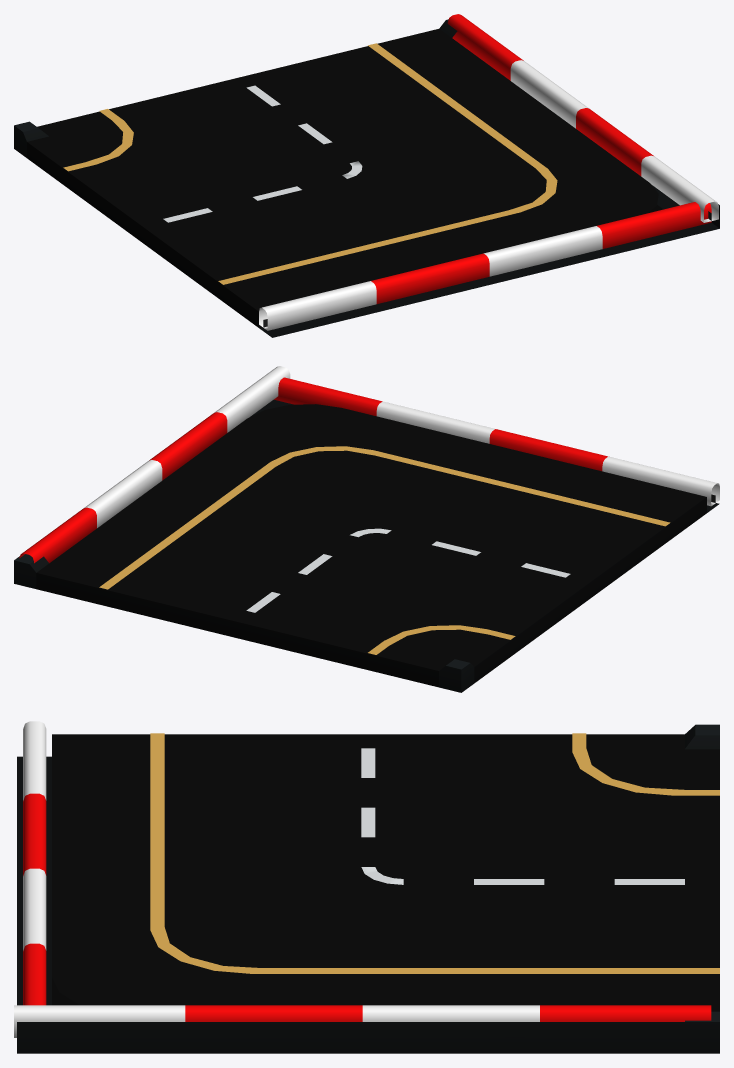
3 views of the same model, one above another, from view 1: azimuth 30°, elevation 25°; view 2: azimuth 150°, elevation 25°; view 3: azimuth 270°, elevation 25° (orthographic). The views are drawn at different scales.
Parts seen in each view (by area): view 1: road_corner_Cube.948_road_corner_Cube.948, StraightTrack01_Cube.002_StraightTrack01_Cube.001-Mesh.001, StraightTrack01_Cube.001_StraightTrack01_Cube.001-Mesh.002; view 2: road_corner_Cube.948_road_corner_Cube.948, StraightTrack01_Cube.002_StraightTrack01_Cube.001-Mesh.001, StraightTrack01_Cube.001_StraightTrack01_Cube.001-Mesh.002; view 3: road_corner_Cube.948_road_corner_Cube.948, StraightTrack01_Cube.001_StraightTrack01_Cube.001-Mesh.002, StraightTrack01_Cube.002_StraightTrack01_Cube.001-Mesh.001.
Part boxes in pixels (x1=…): road_corner_Cube.948_road_corner_Cube.948: x1=14, y1=19, x2=719, y2=337; StraightTrack01_Cube.002_StraightTrack01_Cube.001-Mesh.001: x1=259, y1=202, x2=711, y2=330; StraightTrack01_Cube.001_StraightTrack01_Cube.001-Mesh.002: x1=447, y1=14, x2=718, y2=222; road_corner_Cube.948_road_corner_Cube.948: x1=14, y1=399, x2=719, y2=692; StraightTrack01_Cube.002_StraightTrack01_Cube.001-Mesh.001: x1=274, y1=377, x2=719, y2=506; StraightTrack01_Cube.001_StraightTrack01_Cube.001-Mesh.002: x1=19, y1=366, x2=290, y2=563; road_corner_Cube.948_road_corner_Cube.948: x1=17, y1=724, x2=719, y2=1053; StraightTrack01_Cube.001_StraightTrack01_Cube.001-Mesh.002: x1=14, y1=1005, x2=711, y2=1037; StraightTrack01_Cube.002_StraightTrack01_Cube.001-Mesh.001: x1=23, y1=721, x2=46, y2=1005.
Bounding box in the file's own units: 2.01 × 0.1261 × 2.01.
